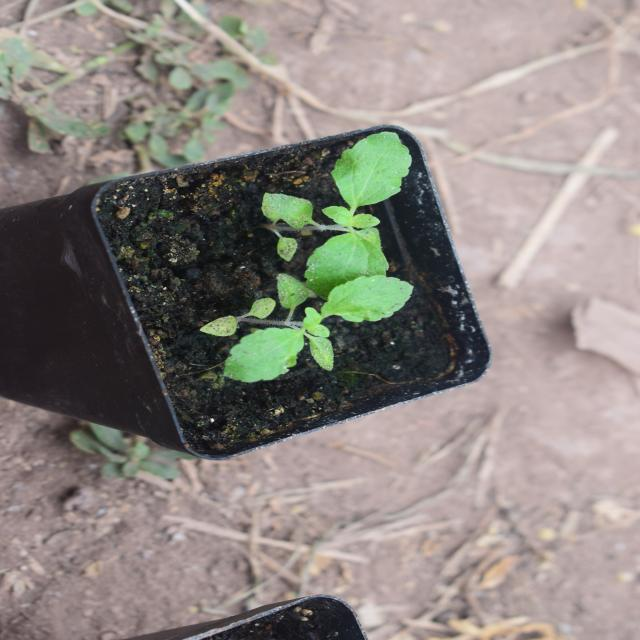billygoat_weed: (119, 212, 294, 351), (284, 216, 384, 412)
